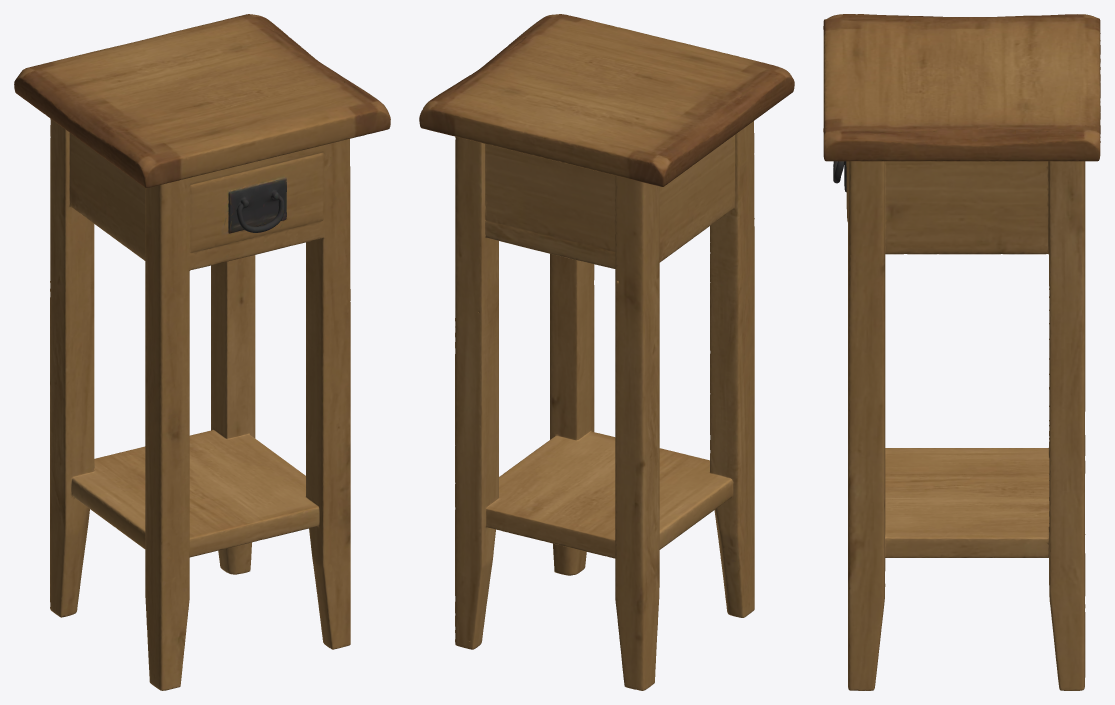
File: B003PBOMJ6.glb
3 views of the same model, side by side, from view 1: azimuth 30°, elevation 25°; view 2: azimuth 150°, elevation 25°; view 3: azimuth 270°, elevation 25° (orthographic). The views are drawn at different scales.
Visible parts, largest first — view 1: geometry_0; view 2: geometry_0; view 3: geometry_0.
Boxes of the visible parts, x1,y1,x2,y2 form: geometry_0: (14, 14, 390, 690); geometry_0: (419, 14, 794, 690); geometry_0: (823, 14, 1100, 690).
Size of the model in its own units: 0.3469 by 0.7305 by 0.3221.
Materials: 1 (1 with a texture image).
